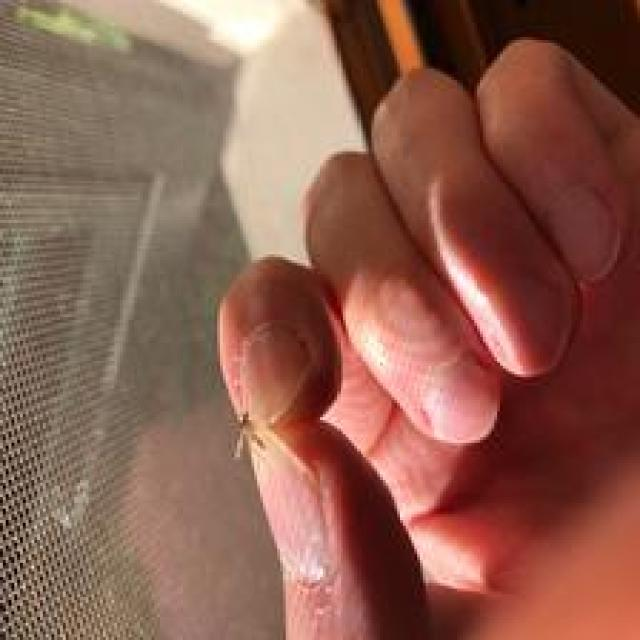Culex: (230, 410, 267, 461)
